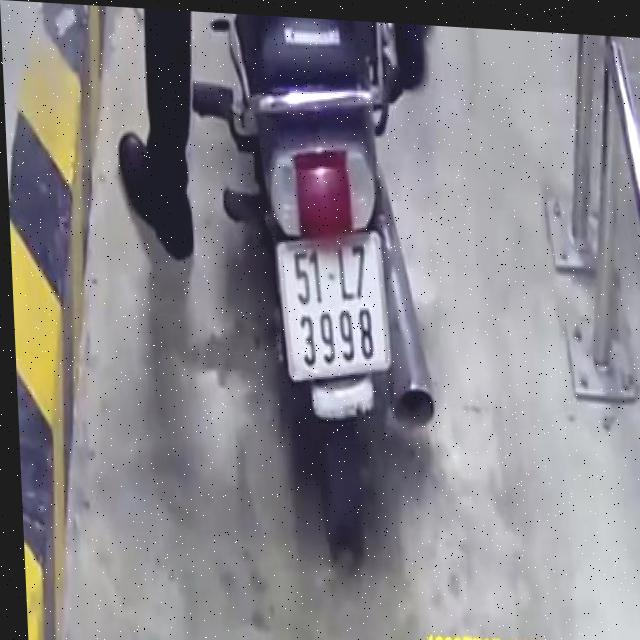motorcycle: (197, 13, 457, 544)
plate: (271, 230, 397, 385)
